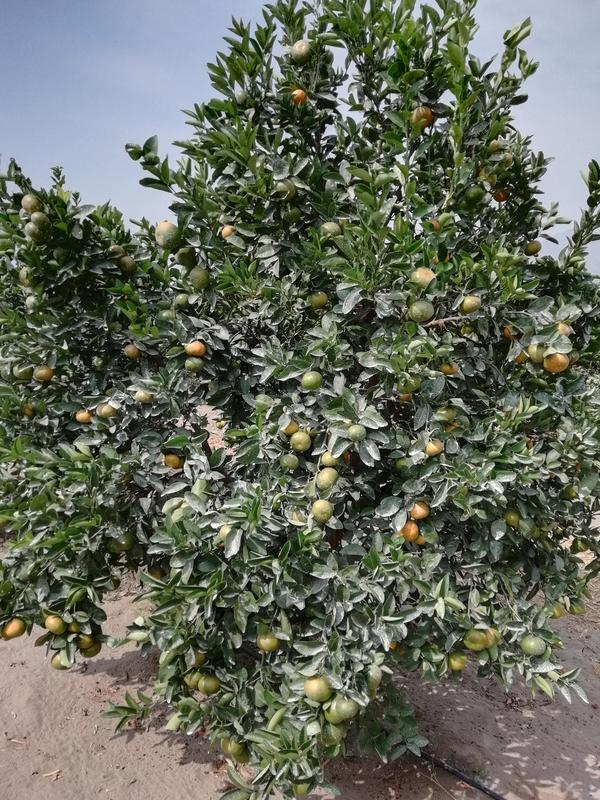mandarina naranja: (2, 617, 26, 639), (45, 615, 68, 635), (544, 354, 569, 372), (402, 521, 419, 541), (33, 365, 54, 381), (410, 504, 429, 519), (186, 341, 205, 355), (76, 409, 93, 423), (123, 344, 140, 358)
mandarina verde: (305, 677, 332, 702), (156, 222, 179, 246), (291, 40, 312, 64), (409, 301, 434, 321), (311, 499, 333, 521), (465, 630, 488, 651), (521, 635, 544, 655), (316, 468, 337, 489), (336, 697, 358, 717), (324, 703, 343, 726), (290, 432, 311, 451), (257, 634, 280, 651), (302, 371, 322, 389), (198, 676, 219, 693), (22, 194, 41, 211), (346, 425, 366, 441), (30, 212, 50, 228), (460, 297, 481, 312), (280, 453, 298, 470), (96, 403, 117, 417), (184, 357, 203, 371)
